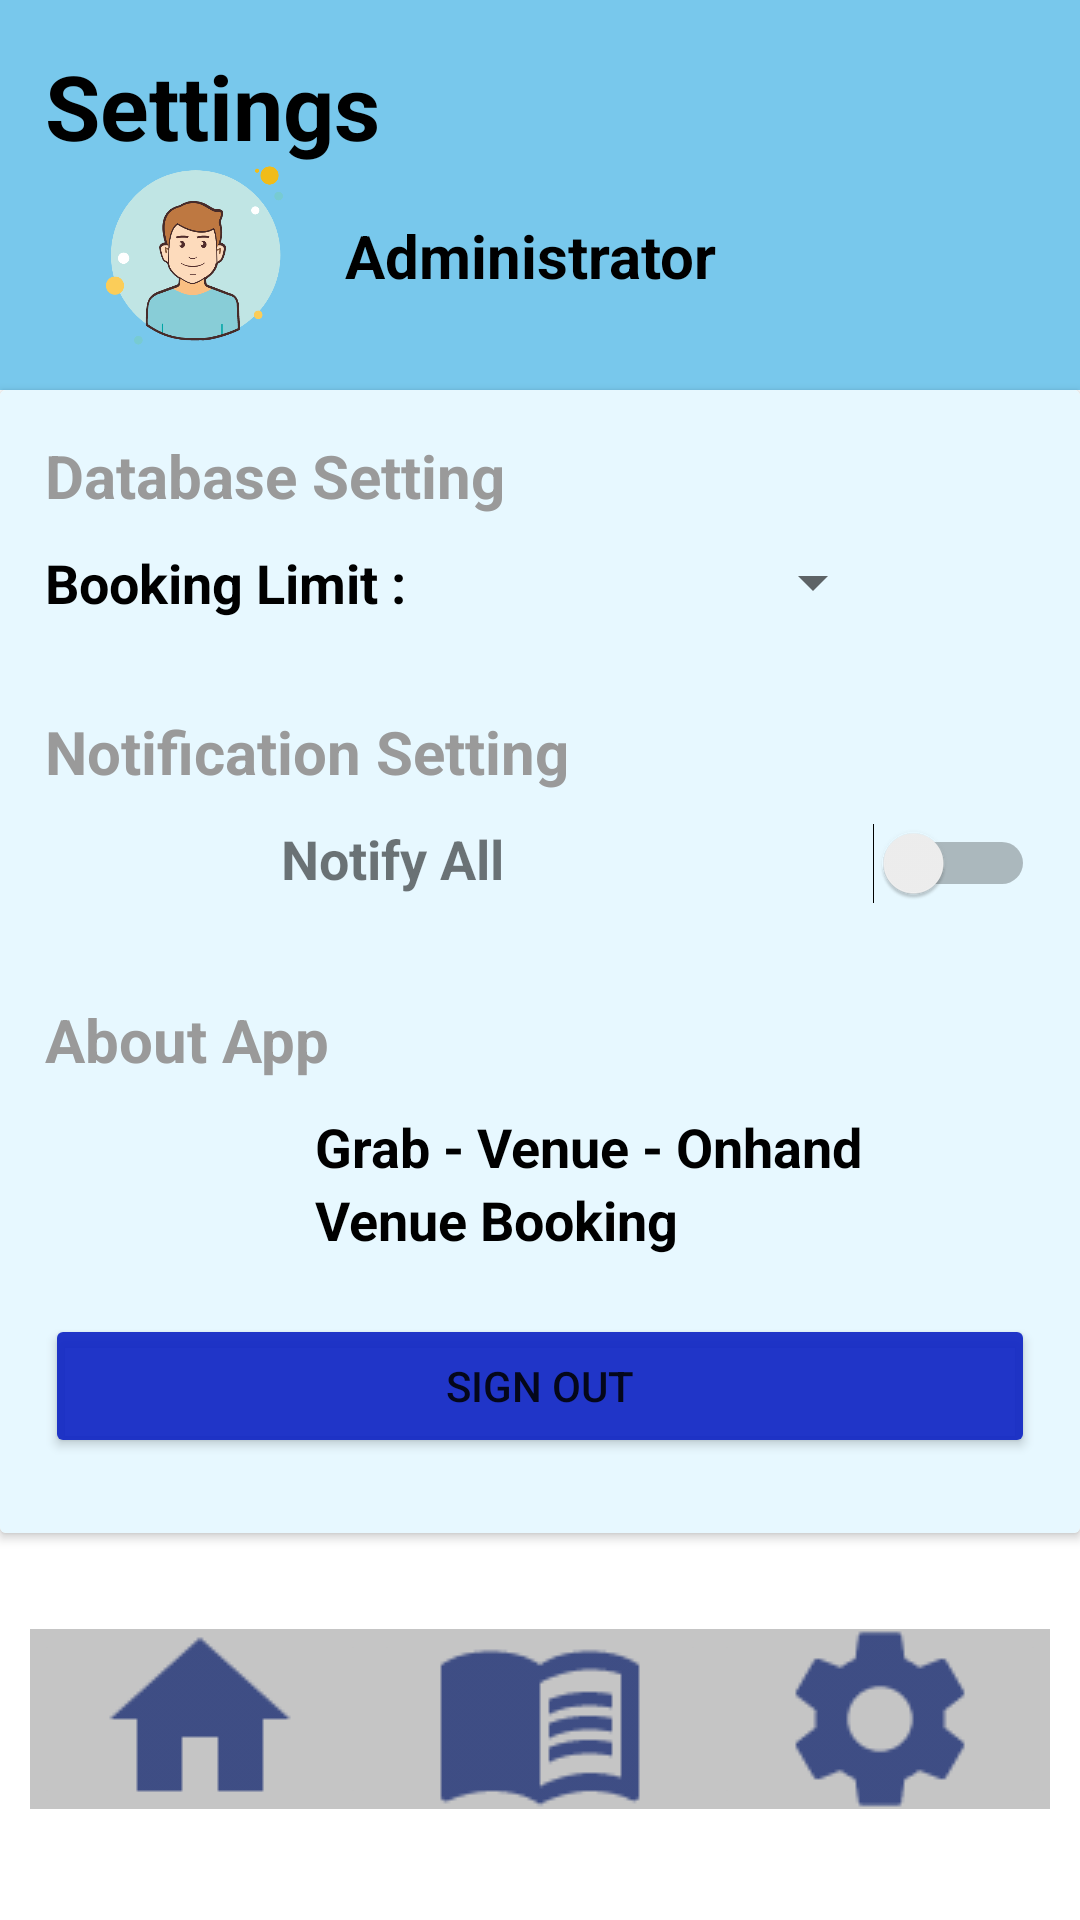

Icons on this 1080 × 1920 Android screen, each with its box as [x1,y1,x2,y2]:
home: [30,1629,370,1809]
setting: [710,1629,1050,1809]
